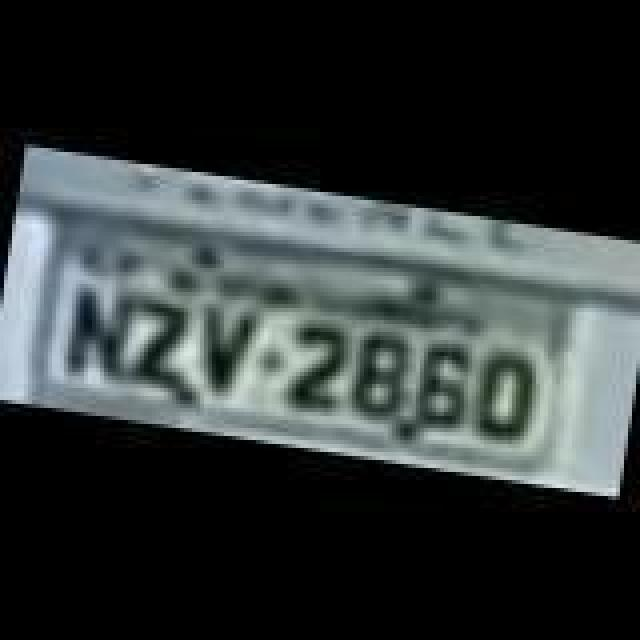2: (278, 322, 354, 414)
6: (406, 334, 474, 434)
8: (340, 326, 412, 426)
N: (60, 278, 132, 378)
O: (464, 346, 536, 446)
V: (184, 298, 264, 398)
Z: (122, 294, 198, 394)
